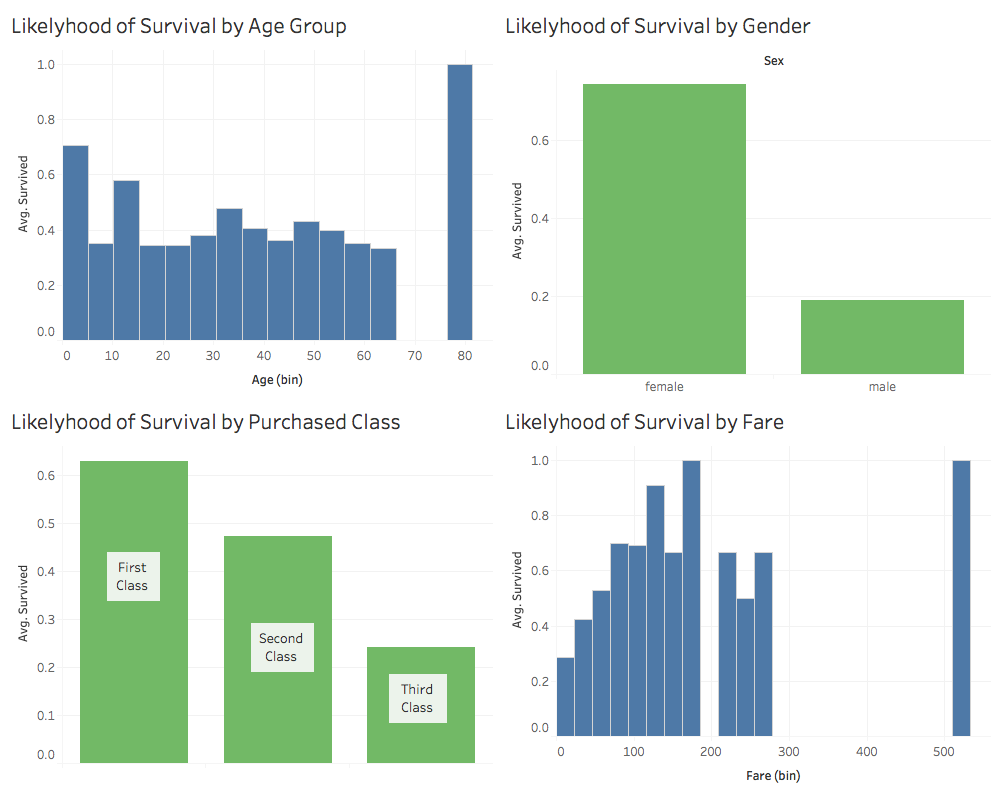

The page's visual inventory and layout, read from the dashboard file:
{"tool":"tableau","page":{"name":"Dashboard 1","canvas":[1000,800],"ordinal":0},"visuals":[{"type":"worksheet","title":"Likelyhood of Survival by Age Group","mark":"Automatic","rows":["Survived"],"cols":["Age (bin)"],"box":[0,0,498,400]},{"type":"worksheet","title":"Likelyhood of Survival by Gender","mark":"Automatic","rows":["Survived"],"cols":["Sex"],"box":[498,0,498,400]},{"type":"worksheet","title":"Likelyhood of Survival by Purchased Class","mark":"Automatic","rows":["Survived"],"cols":["Pclass (bin)"],"box":[0,400,498,400]},{"type":"worksheet","title":"Likelyhood of Survival by Fare","mark":"Automatic","rows":["Survived"],"cols":["Fare (bin)"],"box":[498,400,498,400]}]}

Visuals, with their boxes in screenshot pixels (x1, y1, x2, y2), scaled from the page's 1000x800 canvas onto the 997x797 screenshot:
"Likelyhood of Survival by Age Group" worksheet: {"x1": 0, "y1": 0, "x2": 497, "y2": 398}
"Likelyhood of Survival by Gender" worksheet: {"x1": 497, "y1": 0, "x2": 993, "y2": 398}
"Likelyhood of Survival by Purchased Class" worksheet: {"x1": 0, "y1": 398, "x2": 497, "y2": 796}
"Likelyhood of Survival by Fare" worksheet: {"x1": 497, "y1": 398, "x2": 993, "y2": 796}
